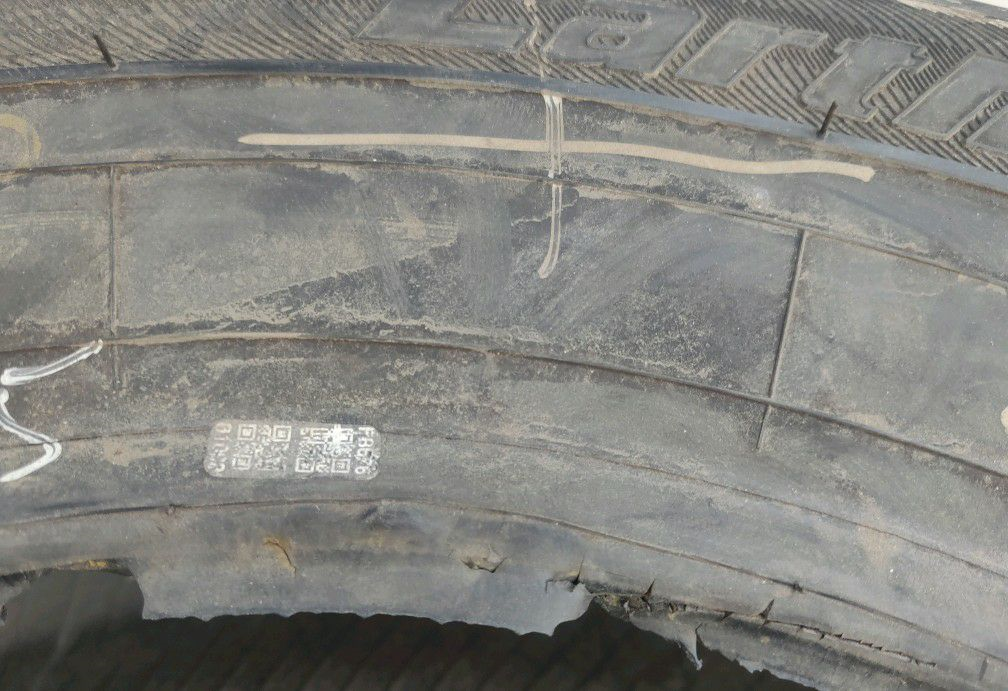bead_damage: (3, 481, 1002, 687)
